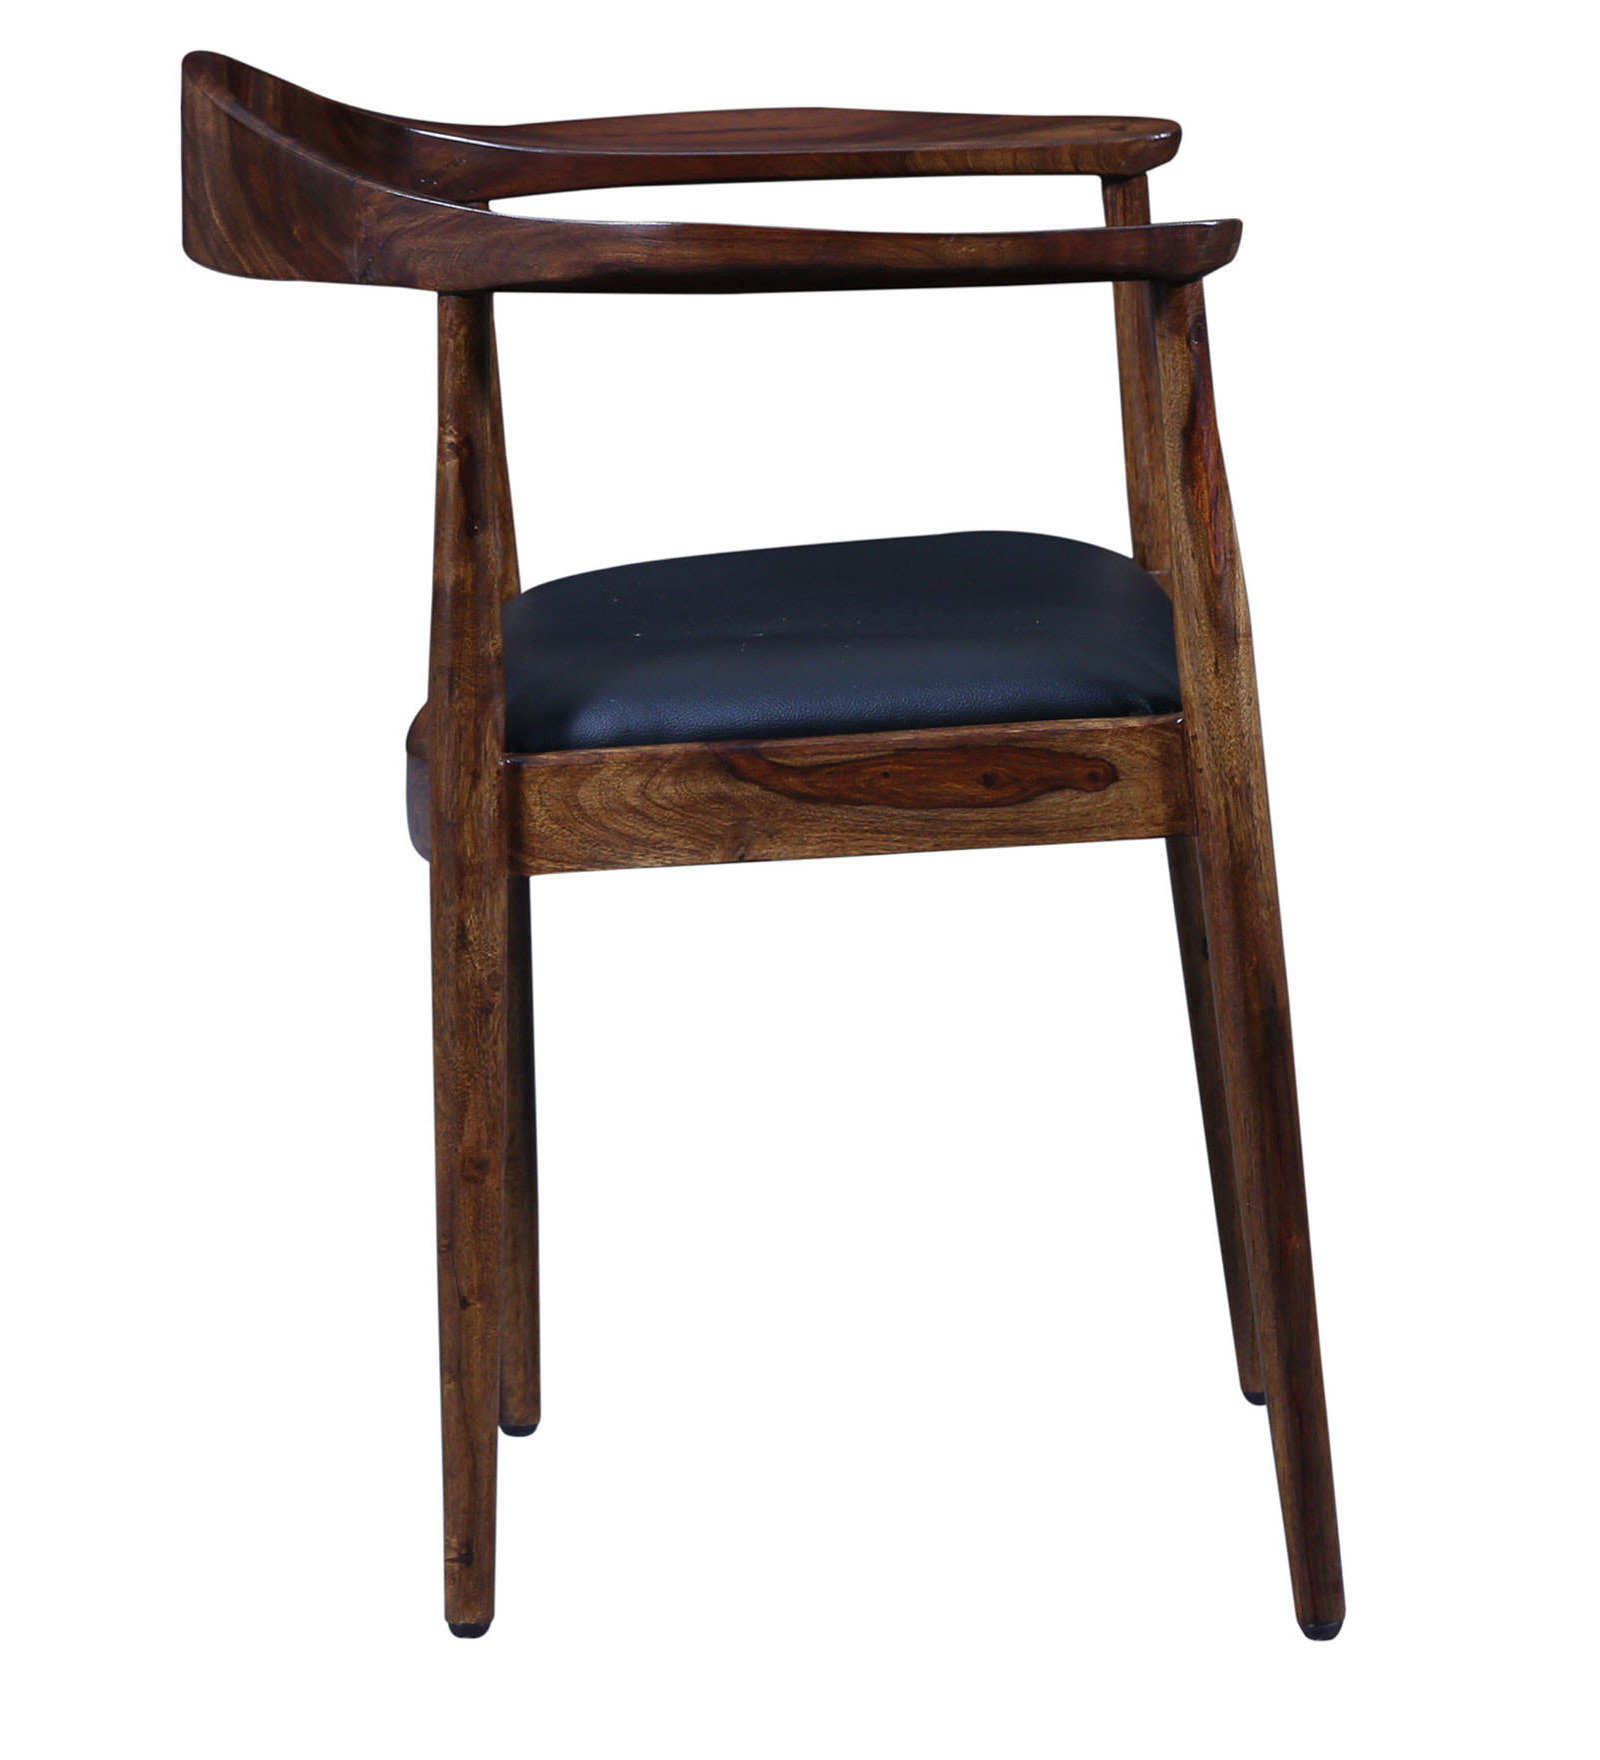Esvelt Arm Chair in Provincial Teak Finish by Woodsworth: (126, 20, 1398, 1685)
